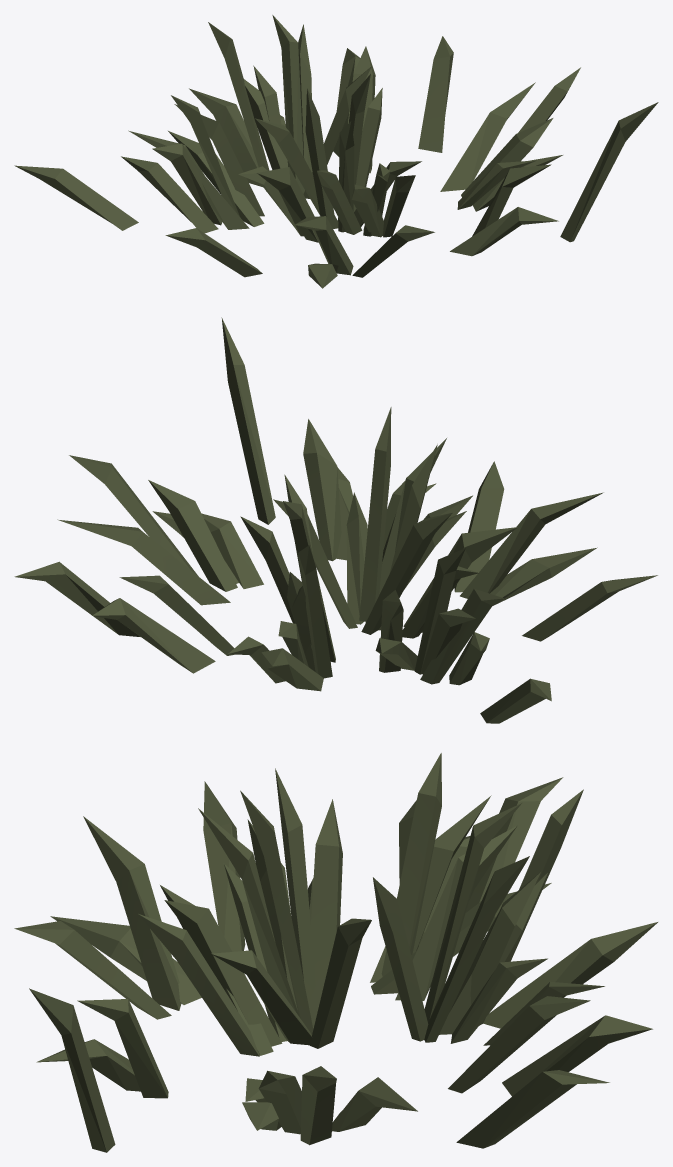
The model's file is SM_Generic_Grass_Patch_01_511.obj.
The picture shows the model from 3 angles, top to bottom: view 1: azimuth 30°, elevation 25°; view 2: azimuth 150°, elevation 25°; view 3: azimuth 270°, elevation 25°; orthographic projection. The views are drawn at different scales.
Visible parts, largest first — view 1: SM_Generic_Grass_Patch_01_0; view 2: SM_Generic_Grass_Patch_01_0; view 3: SM_Generic_Grass_Patch_01_0.
Boxes of the visible parts, x1,y1,x2,y2 form: SM_Generic_Grass_Patch_01_0: (14, 15, 658, 288); SM_Generic_Grass_Patch_01_0: (14, 317, 657, 723); SM_Generic_Grass_Patch_01_0: (14, 753, 657, 1152).
Bounding box in the file's own units: 2.81 × 0.92 × 2.16.
Materials: 1 (1 with a texture image).
